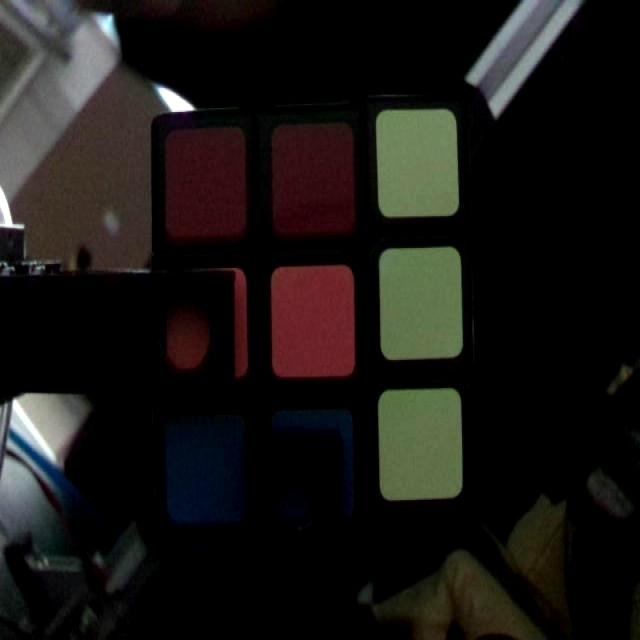b: (277, 414, 353, 509), (173, 421, 246, 516)
o: (275, 266, 354, 373), (173, 270, 245, 372)
r: (275, 130, 355, 235), (171, 132, 246, 236)
y: (380, 392, 461, 497), (384, 253, 462, 355), (378, 113, 456, 214)
